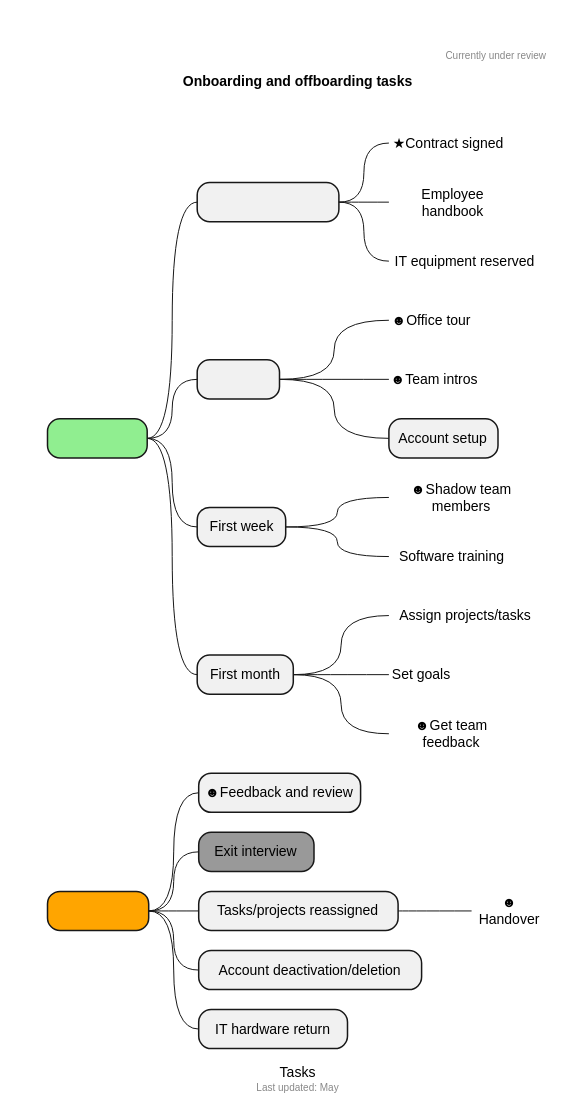
Image size: 564x1113. Some labels were removed from this diagram. Here are the shapes that lost their labels. From the top down, the centre of each, then its label:
[267,201]: Prior to first day
[238,379]: First day
[97,438]: Onboarding
[97,910]: Offboarding
